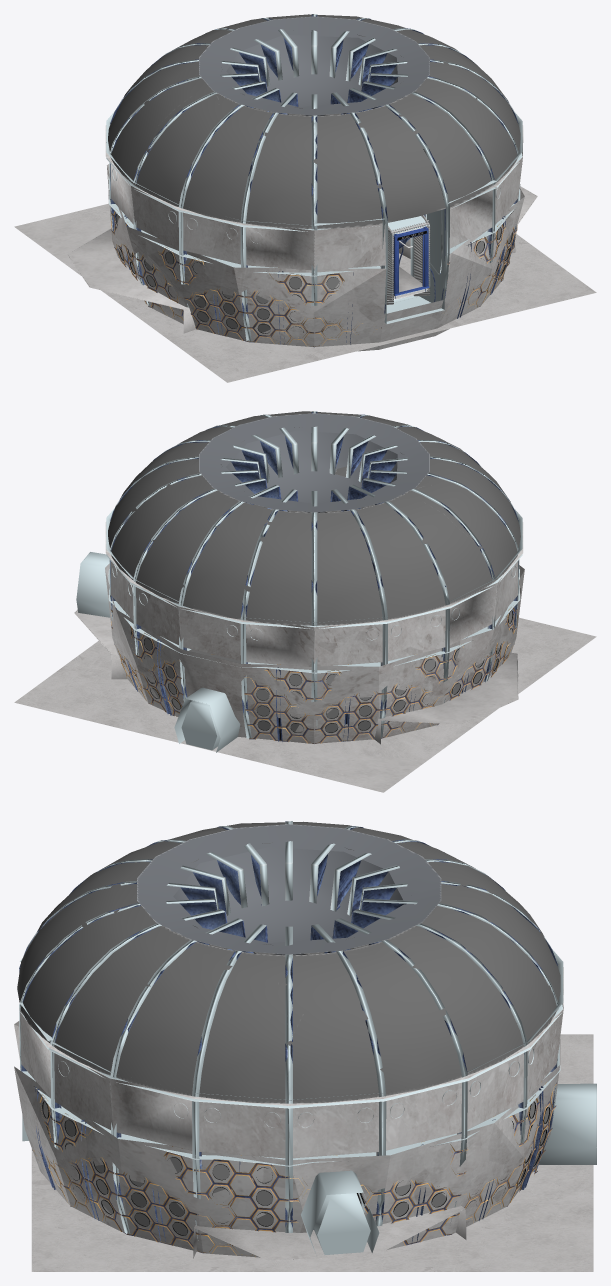
File: room.obj
3 views of the same model, one above another, from view 1: azimuth 30°, elevation 25°; view 2: azimuth 150°, elevation 25°; view 3: azimuth 270°, elevation 25° (orthographic). The views are drawn at different scales.
Visible parts, largest first — view 1: 2.Room, 3.Beams, 4.Lower_Levels, 9.Capaldi_Extras, 1.Exterior_Front_Frame, 7.Centre_Floor; view 2: 2.Room, 3.Beams, 4.Lower_Levels, 9.Capaldi_Extras; view 3: 2.Room, 3.Beams, 4.Lower_Levels, 9.Capaldi_Extras.
Boxes of the visible parts, box(x1,y1,x2,y2) form: 2.Room: box(14, 14, 596, 382); 3.Beams: box(109, 14, 518, 344); 4.Lower_Levels: box(67, 186, 537, 333); 9.Capaldi_Extras: box(115, 214, 512, 333); 1.Exterior_Front_Frame: box(393, 226, 428, 294); 7.Centre_Floor: box(394, 220, 429, 298); 2.Room: box(14, 411, 596, 792); 3.Beams: box(109, 411, 519, 752); 4.Lower_Levels: box(74, 552, 518, 744); 9.Capaldi_Extras: box(122, 610, 513, 732); 2.Room: box(14, 821, 593, 1271); 3.Beams: box(19, 821, 596, 1243); 4.Lower_Levels: box(193, 1170, 466, 1260); 9.Capaldi_Extras: box(42, 1101, 550, 1235).
Size of the model in its own units: 19.7 by 9.15 by 17.57.
Materials: 7 (7 with a texture image).
